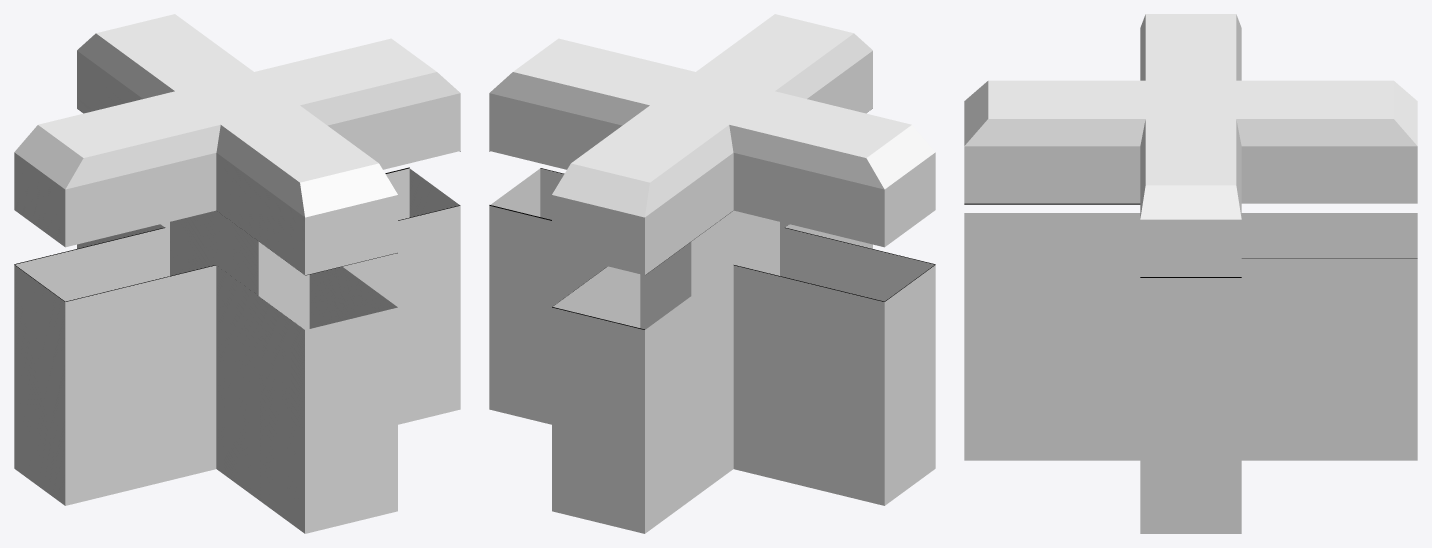
File: Wall_Tile_Cross.fbx
The picture shows the model from 3 angles, left to right: view 1: azimuth 30°, elevation 25°; view 2: azimuth 150°, elevation 25°; view 3: azimuth 270°, elevation 25°; orthographic projection.
Parts seen in each view (by area): view 1: Wall_tile_1; view 2: Wall_tile_1; view 3: Wall_tile_1.
Boxes of the visible parts, x1,y1,x2,y2 form: Wall_tile_1: (14, 14, 460, 533); Wall_tile_1: (489, 14, 935, 533); Wall_tile_1: (964, 14, 1417, 533).
Bounding box in the file's own units: 85 × 70 × 85.
